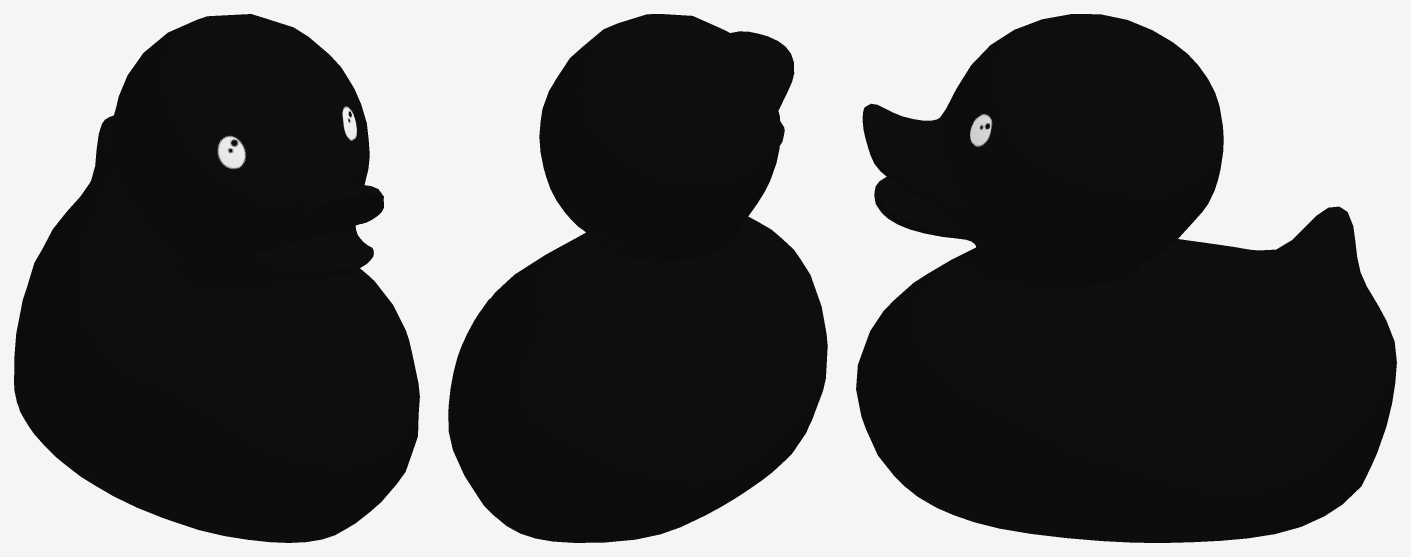
File: duck.glb
The picture shows the model from 3 angles, left to right: view 1: azimuth 30°, elevation 25°; view 2: azimuth 150°, elevation 25°; view 3: azimuth 270°, elevation 25°; orthographic projection. The views are drawn at different scales.
Visible parts, largest first — view 1: rubber_duck_toy; view 2: rubber_duck_toy; view 3: rubber_duck_toy.
Part boxes in pixels (x1,y1,x2,y2): rubber_duck_toy: (14,14,419,542); rubber_duck_toy: (448,14,827,542); rubber_duck_toy: (856,14,1396,542).
Size of the model in its own units: 0.2135 by 0.2855 by 0.3.
1 material, 1 textured.
